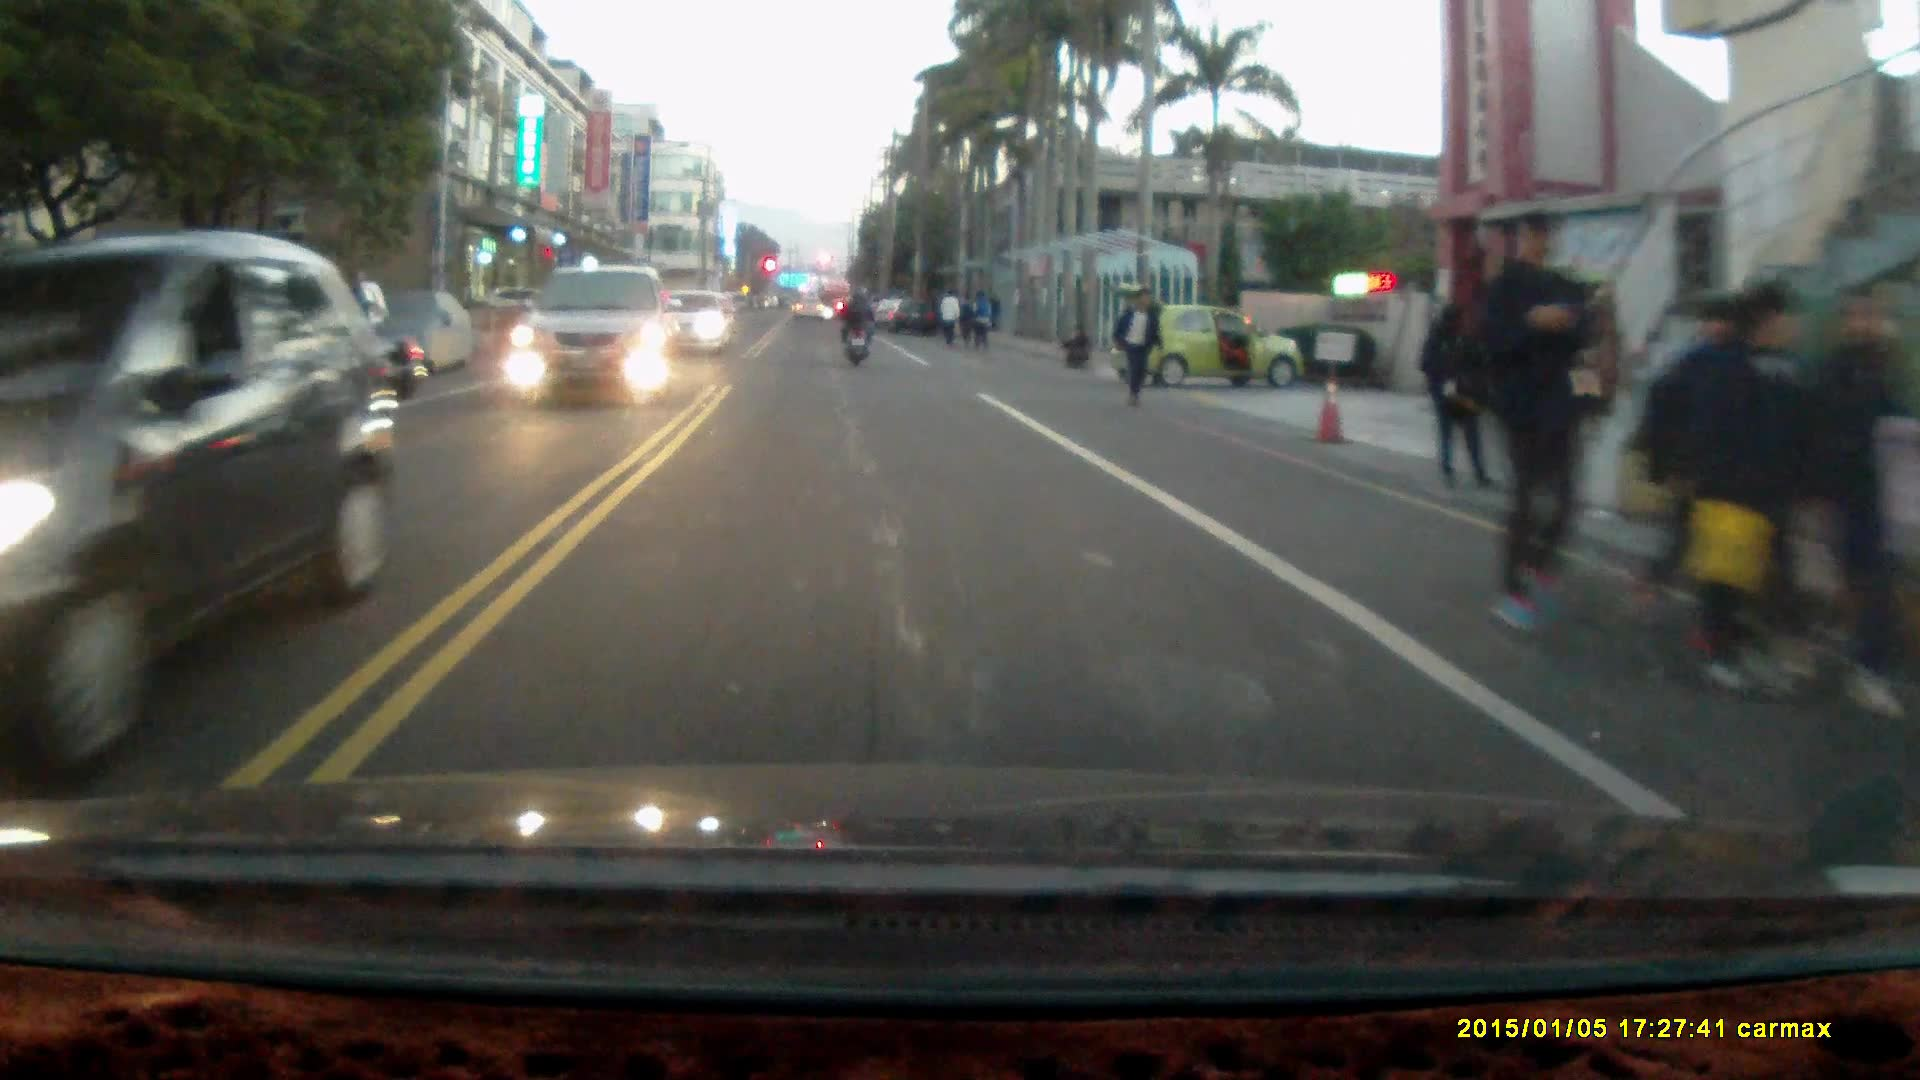pedestrian: (1678, 276, 1821, 707), (1478, 203, 1606, 639), (1805, 289, 1899, 718), (1414, 302, 1494, 497), (1112, 285, 1163, 406), (968, 287, 994, 352), (1060, 322, 1092, 370), (938, 286, 960, 351)
rider: (836, 286, 874, 368)
vehicle: (2, 229, 418, 692), (506, 267, 683, 404), (1111, 279, 1304, 391), (649, 290, 734, 357)
